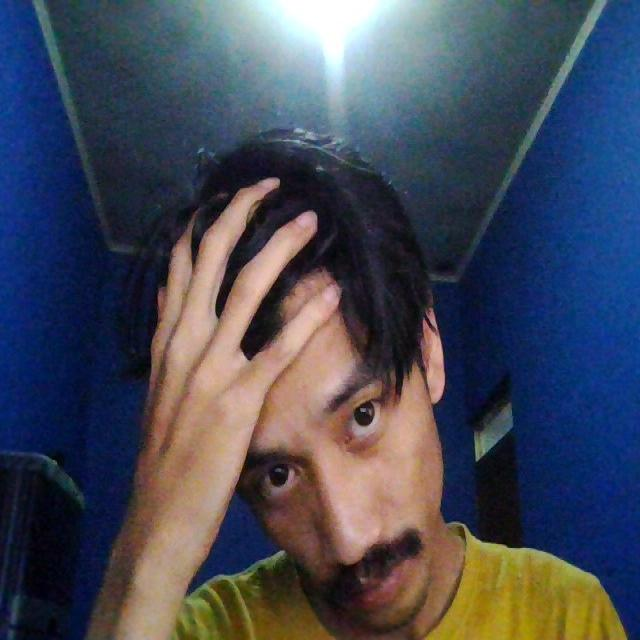movement: (85, 115, 459, 625)
